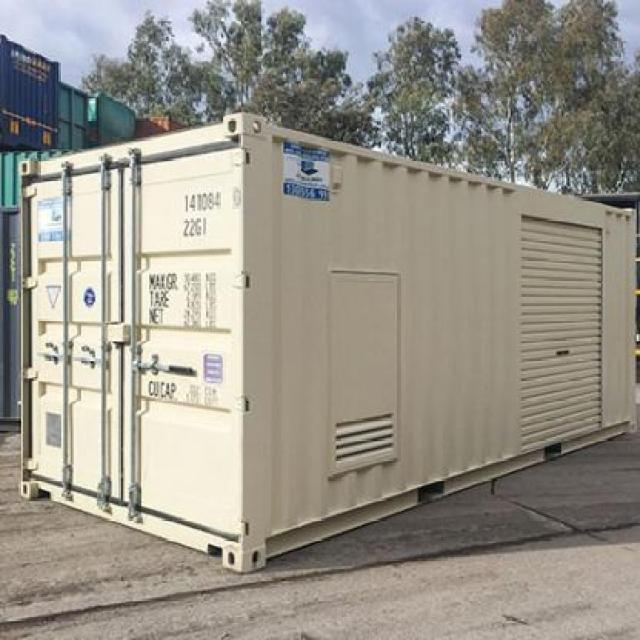ISO: (178, 215, 206, 238)
container_number: (183, 186, 240, 213)
